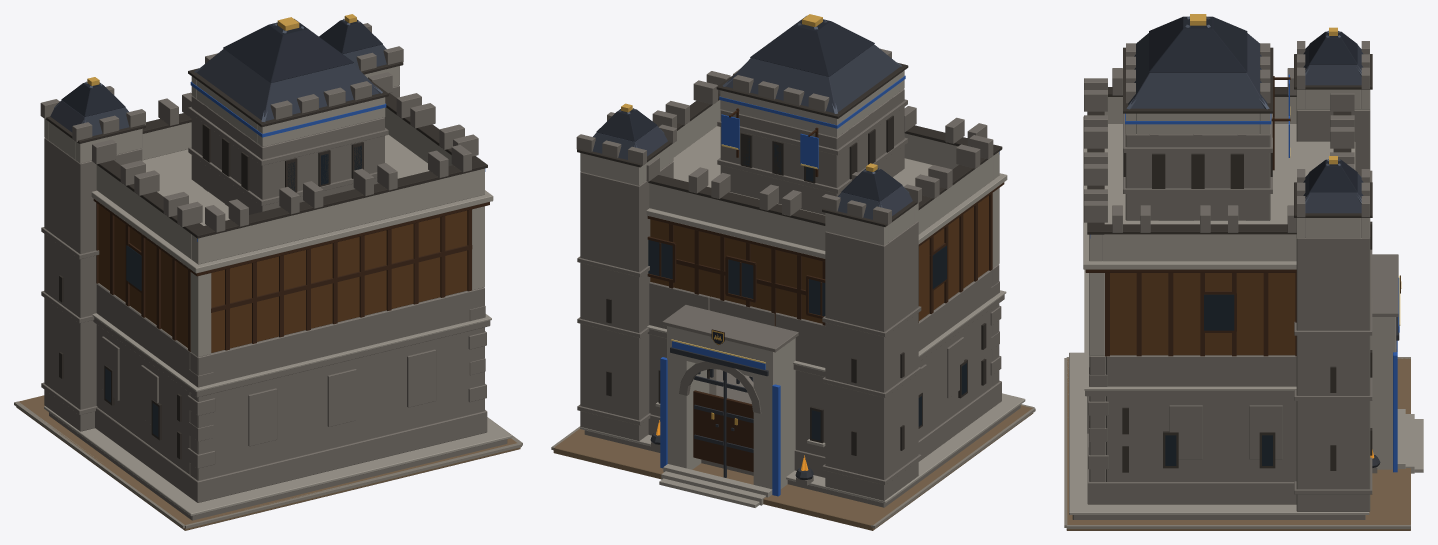
File: 城镇大厅二本_手游_近.glb
The picture shows the model from 3 angles, left to right: view 1: azimuth 30°, elevation 25°; view 2: azimuth 150°, elevation 25°; view 3: azimuth 270°, elevation 25°; orthographic projection. The views are drawn at different scales.
Parts seen in each view (by area): view 1: KH-主体, KH-自发光, KH-team; view 2: KH-主体, KH-team, KH-自发光; view 3: KH-主体, KH-自发光, KH-team.
Boxes of the visible parts, left/top/right/bottom form: KH-主体: left=14, top=14, right=522, bottom=530; KH-自发光: left=105, top=145, right=361, bottom=436; KH-team: left=190, top=81, right=485, bottom=241; KH-主体: left=551, top=14, right=1035, bottom=530; KH-team: left=660, top=75, right=999, bottom=496; KH-自发光: left=648, top=138, right=966, bottom=470; KH-主体: left=1064, top=14, right=1423, bottom=530; KH-自发光: left=1165, top=275, right=1400, bottom=465; KH-team: left=1090, top=74, right=1399, bottom=472.
Size of the model in its own units: 13.26 by 15.71 by 11.9.
Materials: 4 (2 with a texture image).
